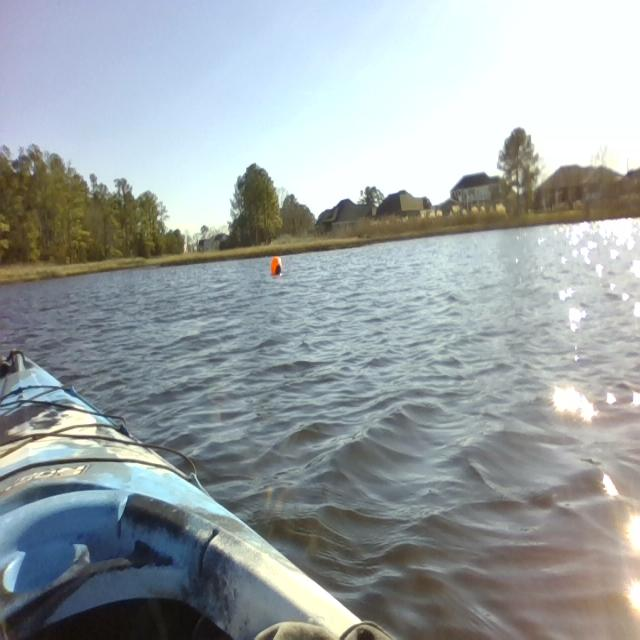Buoy: (266, 249, 286, 280)
